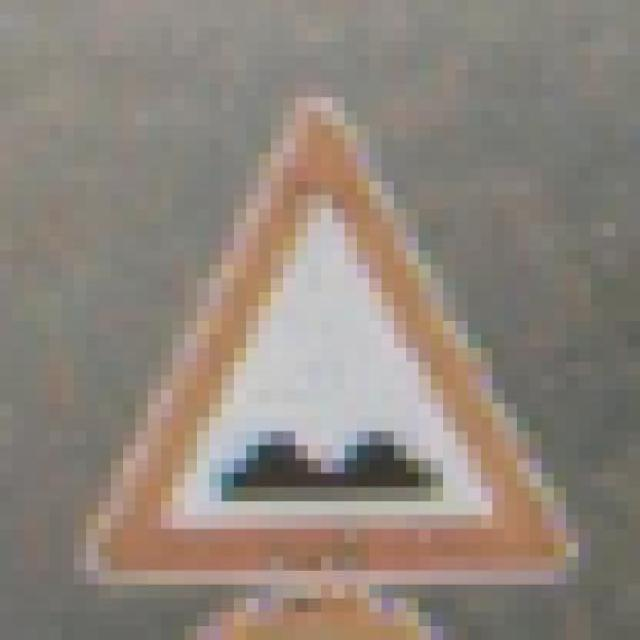Uneven Road: (74, 86, 578, 588)
